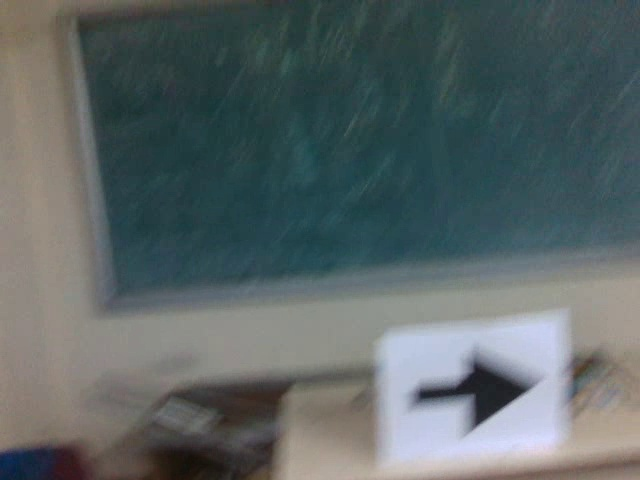Right: (406, 342, 545, 435)
